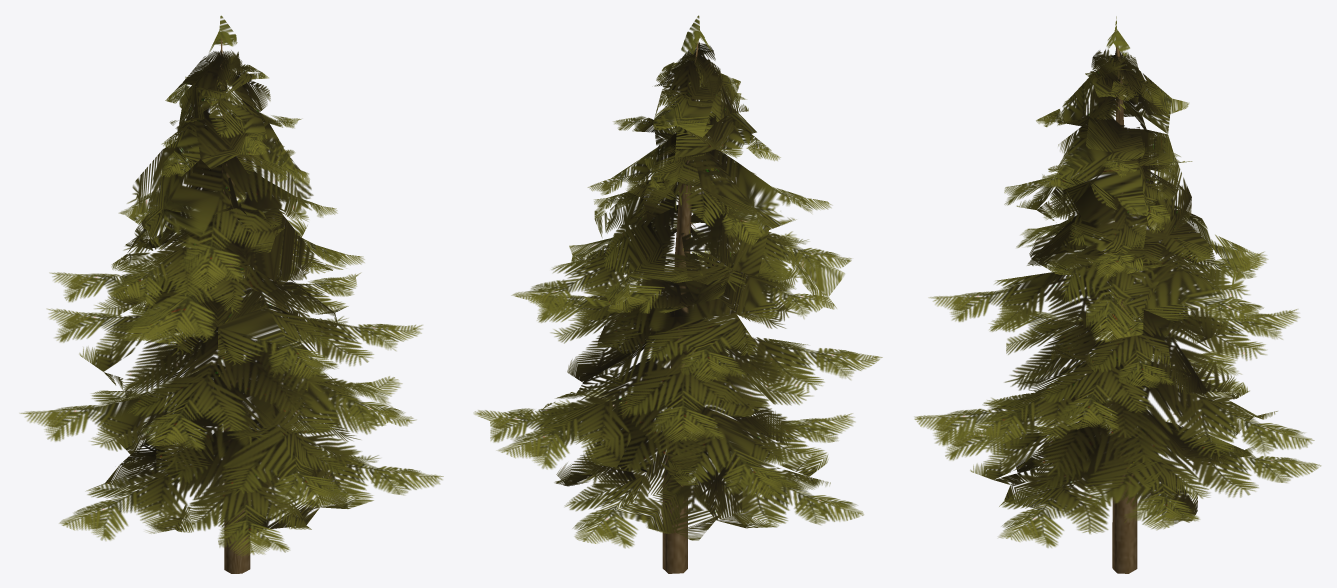
Rendered from pine.glb.
The picture shows the model from 3 angles, left to right: view 1: azimuth 30°, elevation 25°; view 2: azimuth 150°, elevation 25°; view 3: azimuth 270°, elevation 25°; orthographic projection. The views are drawn at different scales.
Size of the model in its own units: 212 by 307 by 209.
Materials: 2 (2 with a texture image).
